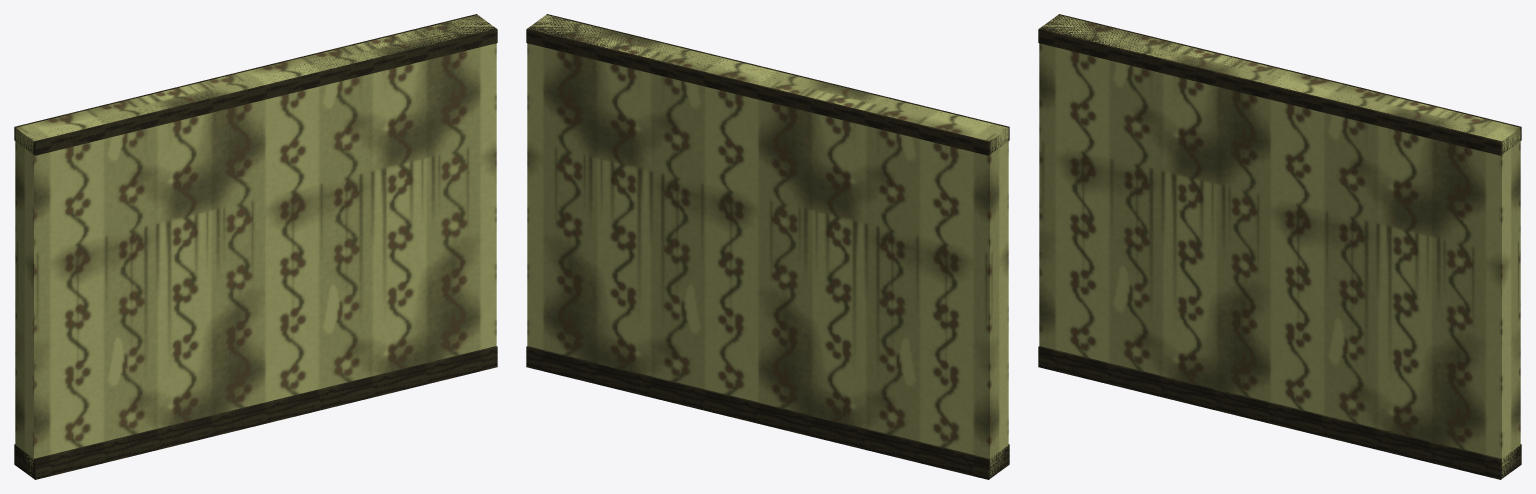
The model's file is Wall_Plain.fbx.
The picture shows the model from 3 angles, left to right: view 1: azimuth 30°, elevation 25°; view 2: azimuth 150°, elevation 25°; view 3: azimuth 330°, elevation 25°; orthographic projection.
Visible parts, largest first — view 1: Wall_Plain_Slab, Wall_Plain_Skirting, Wall_Plain_Cornice; view 2: Wall_Plain_Slab, Wall_Plain_Skirting, Wall_Plain_Cornice; view 3: Wall_Plain_Slab, Wall_Plain_Skirting, Wall_Plain_Cornice.
Part boxes in pixels (box(x1,y1,x2,y2)): Wall_Plain_Slab: box(15, 15, 496, 475); Wall_Plain_Skirting: box(14, 346, 497, 479); Wall_Plain_Cornice: box(14, 14, 497, 155); Wall_Plain_Slab: box(527, 15, 1008, 477); Wall_Plain_Skirting: box(526, 346, 1009, 479); Wall_Plain_Cornice: box(526, 14, 1009, 155); Wall_Plain_Slab: box(1039, 15, 1520, 477); Wall_Plain_Skirting: box(1038, 346, 1521, 479); Wall_Plain_Cornice: box(1038, 14, 1521, 155).
Size of the model in its own units: 4.3 by 3 by 0.34.
2 materials, 2 textured.
